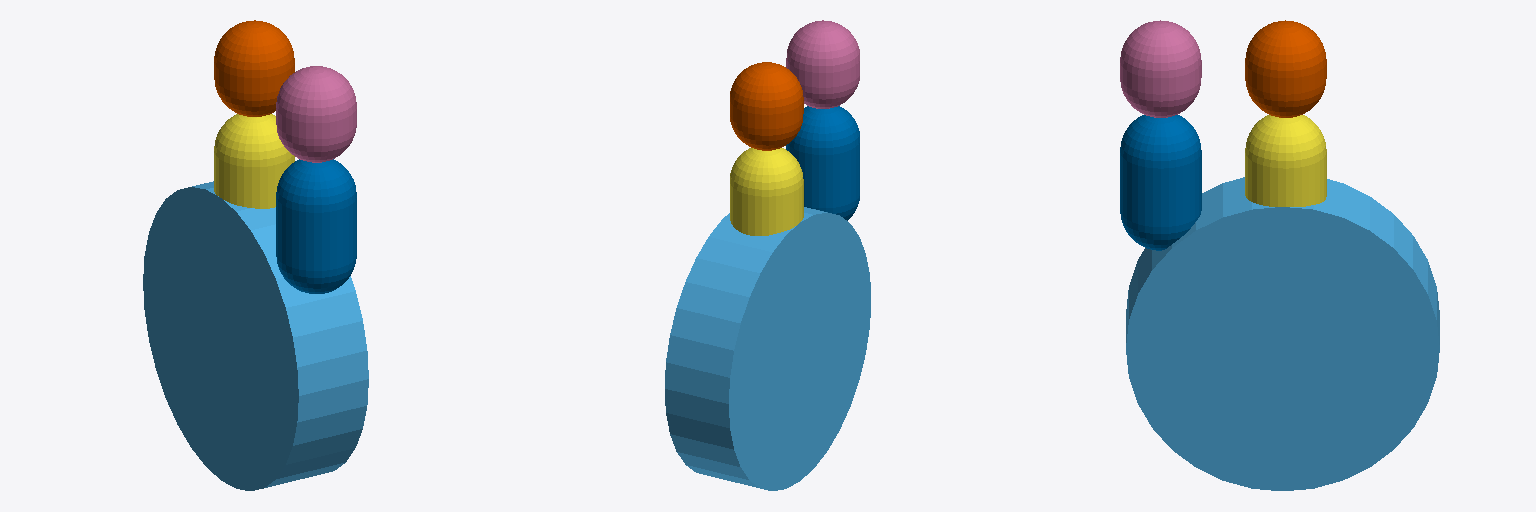
The robot description file, URDF, robot "DexterousHand":
<?xml version="1.0"?>
<robot name="DexterousHand">


    <link name="world"/>
    <joint name="world_to_palm" type="fixed">
        <parent link="world"/>
        <child link="palm"/>
        <origin xyz="0 0 0" rpy="0 0 0"/>
    </joint>
    <link name="palm">
        <inertial>
            <origin xyz="0 0 0.057" rpy="0 0 0"/>
            <mass value="0.30212892864"/>
            <inertia ixx="0.00049080844457568" ixy="0.0" ixz="0.0" iyy="0.00026746366246427523" iyz="0.0" izz="0.00026746366246427523"/>
        </inertial>
        <visual>
            <origin xyz="0 0 0.057" rpy="1.5708 0 1.5708"/>
            <geometry>
                <cylinder radius="0.057" length="0.0296"/>
            </geometry>
            <material name="default"/>
        </visual>
        <collision>
            <origin xyz="0 0 0.057" rpy="1.5708 0 1.5708"/>
            <geometry>
                <cylinder radius="0.057" length="0.0296"/>
            </geometry>
        </collision>
    </link>

    
    <joint name="thumb_joint1" type="revolute">
        <parent link="palm"/>
        <child link="thumb_base"/>
        <origin xyz="0.0 0.0 0.0" rpy="0.0 0.0 0.0"/>
        <axis xyz="1 0 0"/>
        <limit lower="0.0" upper="0.0" effort="1.0" velocity="1.0"/>
    </joint>

    <link name="thumb_base"></link>

    <joint name="thumb_joint2" type="revolute">
        <parent link="thumb_base"/>
        <child link="thumb_proximal"/>
        <origin xyz="0.0 0.0 0.0" rpy="0.0 0.0 0.0"/>
        <axis xyz="0 1 0"/>
        <limit lower="0.0" upper="0.0" effort="1.0" velocity="1.0"/>
    </joint>

    <link name="thumb_proximal">
    </link>

    <joint name="thumb_joint3" type="revolute">
        <parent link="thumb_proximal"/>
        <child link="thumb_knuckle"/>
        <origin xyz="0.0 0.0 0.0" rpy="0.0 0.0 0.0"/>
        <axis xyz="1 0 0"/>
        <limit lower="0.0" upper="0.0" effort="1.0" velocity="1.0"/>
    </joint>

    <link name="thumb_knuckle"></link>

    <joint name="thumb_joint4" type="revolute">
        <parent link="thumb_knuckle"/>
        <child link="thumb_middle"/>
        <origin xyz="0 0 0" rpy="0 0 0"/> 
        <axis xyz="0 1 0"/>
        <limit lower="0.0" upper="0.0" effort="1.0" velocity="1.0"/>
    </joint>

    <link name="thumb_middle">
    </link>

    <joint name="thumb_joint5" type="revolute">
        <parent link="thumb_middle"/>
        <child link="thumb_distal"/>
        <origin xyz="0 0 0" rpy="0 0 0"/> 
        <axis xyz="0 1 0"/>
        <limit lower="0.0" upper="0.0" effort="1.0" velocity="1.0"/>
    </joint>

    <link name="thumb_distal">
    </link>

    
    <joint name="index_joint1" type="revolute">
        <parent link="palm"/>
        <child link="index_proximal"/>
        <origin xyz="0.0 0.0 0.0" rpy="0.0 0.0 0.0"/>
        <axis xyz="1 0 0"/>
        <limit lower="0.0" upper="0.0" effort="1.0" velocity="1.0"/>
    </joint>

    <link name="index_proximal">
    </link>

    <joint name="index_joint2" type="revolute">
        <parent link="index_proximal"/>
        <child link="index_dummy"/>
        <origin xyz="0.0 0.0 0.0" rpy="0.0 0.0 0.0"/>
        <axis xyz="0 1 0"/>
        <limit lower="0.0" upper="0.0" effort="1.0" velocity="1.0"/>
    </joint>

    <link name="index_dummy"></link>

    <joint name="index_joint3" type="revolute">
        <parent link="index_dummy"/>
        <child link="index_middle"/>
        <origin xyz="0 0 0" rpy="0 0 0"/>
        <axis xyz="0 1 0"/>
        <limit lower="0.0" upper="0.0" effort="1.0" velocity="1.0"/>
    </joint>

    <link name="index_middle">
    </link>

    <joint name="index_joint4" type="revolute">
        <parent link="index_middle"/>
        <child link="index_distal"/>
        <origin xyz="0 0 0" rpy="0 0 0"/> 
        <axis xyz="0 1 0"/>
        <limit lower="0.0" upper="0.0" effort="1.0" velocity="1.0"/>
    </joint>

    <link name="index_distal">
    </link>

    
    <joint name="middle_joint1" type="revolute">
        <parent link="palm"/>
        <child link="middle_proximal"/>
        <origin xyz="0.0 0.0011 0.091" rpy="0.0 0.0 0.0"/>
        <axis xyz="0 1 0"/>
        <limit lower="-0.314" upper="2.23" effort="1.0" velocity="1.0"/>
    </joint>

    <link name="middle_proximal">
        <inertial>
            <origin xyz="0 0 0.02655" rpy="0 0 0"/>
            <mass value="0.036540024998400006"/>
            <inertia ixx="1.058665009272394e-05" ixy="0.0" ixz="0.0" 
            iyy="1.058665009272394e-05" iyz="0.0" izz="4.001863537824769e-06"/>
        </inertial>
        <visual>
            <origin xyz="0 0 0.02655" rpy="0 0 0"/>
            <geometry>
                <cylinder radius="0.0148" length="0.0235"/>
            </geometry>
            <material name="default"/>
        </visual>
        <visual>
            <origin xyz="0 0 0.0148" rpy="0 0 0"/>
            <geometry>
                <sphere radius="0.0148"/>
            </geometry>
            <material name="default"/>
        </visual>
        <visual>
            <origin xyz="0 0 0.0383" rpy="0 0 0"/>
            <geometry>
                <sphere radius="0.0148"/>
            </geometry>
            <material name="default"/>
        </visual>
        <collision>
            <origin xyz="0 0 0.02655" rpy="0 0 0"/>
            <geometry>
                <cylinder radius="0.0148" length="0.0235"/>
            </geometry>
        </collision>
        <collision>
            <origin xyz="0 0 0.0148" rpy="0 0 0"/>
            <geometry>
                <sphere radius="0.0148"/>
            </geometry>
        </collision>
        <collision>
            <origin xyz="0 0 0.0383" rpy="0 0 0"/>
            <geometry>
                <sphere radius="0.0148"/>
            </geometry>
        </collision>
    </link>

    <joint name="middle_joint2" type="revolute">
        <parent link="middle_proximal"/>
        <child link="middle_dummy"/>
        <origin xyz="0.0 0.0 0.038" rpy="0.0 0.0 0.0"/>
        <axis xyz="1 0 0"/>
        <limit lower="-1.047" upper="1.047" effort="1.0" velocity="1.0"/>
    </joint>

    <link name="middle_dummy"></link>

    <joint name="middle_joint3" type="revolute">
        <parent link="middle_dummy"/>
        <child link="middle_middle"/>
        <origin xyz="0 0 0.015100000000000002" rpy="0 0 0"/>
        <axis xyz="0 1 0"/>
        <limit lower="-0.506" upper="1.885" effort="1.0" velocity="1.0"/>
    </joint>

    <link name="middle_middle">
        <inertial>
            <origin xyz="0 0 0.01805" rpy="0 0 0"/>
            <mass value="0.0248417119104"/>
            <inertia ixx="4.058162759109537e-06" ixy="0.0" ixz="0.0" 
            iyy="4.058162759109537e-06" iyz="0.0" izz="2.7206642884270085e-06"/>
        </inertial>
        <visual>
            <origin xyz="0 0 0.01805" rpy="0 0 0"/>
            <geometry>
                <cylinder radius="0.0148" length="0.006499999999999999"/>
            </geometry>
            <material name="default"/>
        </visual>
        <visual>
            <origin xyz="0 0 0.0148" rpy="0 0 0"/>
            <geometry>
                <sphere radius="0.0148"/>
            </geometry>
            <material name="default"/>
        </visual>
        <visual>
            <origin xyz="0 0 0.0213" rpy="0 0 0"/>
            <geometry>
                <sphere radius="0.0148"/>
            </geometry>
            <material name="default"/>
        </visual>
        <collision>
            <origin xyz="0 0 0.01805" rpy="0 0 0"/>
            <geometry>
                <cylinder radius="0.0148" length="0.006499999999999999"/>
            </geometry>
        </collision>
        <collision>
            <origin xyz="0 0 0.0148" rpy="0 0 0"/>
            <geometry>
                <sphere radius="0.0148"/>
            </geometry>
        </collision>
        <collision>
            <origin xyz="0 0 0.0213" rpy="0 0 0"/>
            <geometry>
                <sphere radius="0.0148"/>
            </geometry>
        </collision>
    </link>

    <joint name="middle_joint4" type="revolute">
        <parent link="middle_middle"/>
        <child link="middle_distal"/>
        <origin xyz="0 0 0.0361" rpy="0 0 0"/> 
        <axis xyz="0 1 0"/>
        <limit lower="0.0" upper="0.0" effort="1.0" velocity="1.0"/>
    </joint>

    <link name="middle_distal">
    </link>

    
    <joint name="ring_joint1" type="revolute">
        <parent link="palm"/>
        <child link="ring_proximal"/>
        <origin xyz="0.0 0.0 0.0" rpy="0.0 0.0 0.0"/>
        <axis xyz="1 0 0"/>
        <limit lower="0.0" upper="0.0" effort="1.0" velocity="1.0"/>
    </joint>

    <link name="ring_proximal">
    </link>

    <joint name="ring_joint2" type="revolute">
        <parent link="ring_proximal"/>
        <child link="ring_dummy"/>
        <origin xyz="0.0 0.0 0.0" rpy="0.0 0.0 0.0"/>
        <axis xyz="0 1 0"/>
        <limit lower="0.0" upper="0.0" effort="1.0" velocity="1.0"/>
    </joint>

    <link name="ring_dummy"></link>

    <joint name="ring_joint3" type="revolute">
        <parent link="ring_dummy"/>
        <child link="ring_middle"/>
        <origin xyz="0 0 0" rpy="0 0 0"/>
        <axis xyz="0 1 0"/>
        <limit lower="0.0" upper="0.0" effort="1.0" velocity="1.0"/>
    </joint>

    <link name="ring_middle">
    </link>

    <joint name="ring_joint4" type="revolute">
        <parent link="ring_middle"/>
        <child link="ring_distal"/>
        <origin xyz="0 0 0" rpy="0 0 0"/> 
        <axis xyz="0 1 0"/>
        <limit lower="0.0" upper="0.0" effort="1.0" velocity="1.0"/>
    </joint>

    <link name="ring_distal">
    </link>

    
    <joint name="little_joint0" type="revolute">
        <parent link="palm"/>
        <child link="little_base"/>
        <origin xyz="0.0 0.0 0.0" rpy="0.0 0.0 0.0"/>
        <axis xyz="0 1 0"/>
        <limit lower="0.0" upper="0.0" effort="1.0" velocity="1.0"/>
    </joint>

    <link name="little_base"></link>

    <joint name="little_joint1" type="revolute">
        <parent link="little_base"/>
        <child link="little_proximal"/>
        <origin xyz="0.0 -0.0443 0.091" rpy="-0.0 -0.0 -0.0"/>
        <axis xyz="0 1 0"/>
        <limit lower="-0.314" upper="2.23" effort="1.0" velocity="1.0"/>
    </joint>

    <link name="little_proximal">
        <inertial>
            <origin xyz="0 0 0.02655" rpy="0 0 0"/>
            <mass value="0.036540024998400006"/>
            <inertia ixx="1.058665009272394e-05" ixy="0.0" ixz="0.0" 
            iyy="1.058665009272394e-05" iyz="0.0" izz="4.001863537824769e-06"/>
        </inertial>
        <visual>
            <origin xyz="0 0 0.02655" rpy="0 0 0"/>
            <geometry>
                <cylinder radius="0.0148" length="0.0235"/>
            </geometry>
            <material name="default"/>
        </visual>
        <visual>
            <origin xyz="0 0 0.0148" rpy="0 0 0"/>
            <geometry>
                <sphere radius="0.0148"/>
            </geometry>
            <material name="default"/>
        </visual>
        <visual>
            <origin xyz="0 0 0.0383" rpy="0 0 0"/>
            <geometry>
                <sphere radius="0.0148"/>
            </geometry>
            <material name="default"/>
        </visual>
        <collision>
            <origin xyz="0 0 0.02655" rpy="0 0 0"/>
            <geometry>
                <cylinder radius="0.0148" length="0.0235"/>
            </geometry>
        </collision>
        <collision>
            <origin xyz="0 0 0.0148" rpy="0 0 0"/>
            <geometry>
                <sphere radius="0.0148"/>
            </geometry>
        </collision>
        <collision>
            <origin xyz="0 0 0.0383" rpy="0 0 0"/>
            <geometry>
                <sphere radius="0.0148"/>
            </geometry>
        </collision>
    </link>

    <joint name="little_joint2" type="revolute">
        <parent link="little_proximal"/>
        <child link="little_dummy"/>
        <origin xyz="0.0 0.0 0.038" rpy="0.0 0.0 0.0"/>
        <axis xyz="1 0 0"/>
        <limit lower="-1.047" upper="1.047" effort="1.0" velocity="1.0"/>
    </joint>

    <link name="little_dummy"></link>

    <joint name="little_joint3" type="revolute">
        <parent link="little_dummy"/>
        <child link="little_middle"/>
        <origin xyz="0 0 0.015100000000000002" rpy="0 0 0"/>
        <axis xyz="0 1 0"/>
        <limit lower="-0.506" upper="1.885" effort="1.0" velocity="1.0"/>
    </joint>

    <link name="little_middle">
        <inertial>
            <origin xyz="0 0 0.01805" rpy="0 0 0"/>
            <mass value="0.0248417119104"/>
            <inertia ixx="4.058162759109537e-06" ixy="0.0" ixz="0.0" 
            iyy="4.058162759109537e-06" iyz="0.0" izz="2.7206642884270085e-06"/>
        </inertial>
        <visual>
            <origin xyz="0 0 0.01805" rpy="0 0 0"/>
            <geometry>
                <cylinder radius="0.0148" length="0.006499999999999999"/>
            </geometry>
            <material name="default"/>
        </visual>
        <visual>
            <origin xyz="0 0 0.0148" rpy="0 0 0"/>
            <geometry>
                <sphere radius="0.0148"/>
            </geometry>
            <material name="default"/>
        </visual>
        <visual>
            <origin xyz="0 0 0.0213" rpy="0 0 0"/>
            <geometry>
                <sphere radius="0.0148"/>
            </geometry>
            <material name="default"/>
        </visual>
        <collision>
            <origin xyz="0 0 0.01805" rpy="0 0 0"/>
            <geometry>
                <cylinder radius="0.0148" length="0.006499999999999999"/>
            </geometry>
        </collision>
        <collision>
            <origin xyz="0 0 0.0148" rpy="0 0 0"/>
            <geometry>
                <sphere radius="0.0148"/>
            </geometry>
        </collision>
        <collision>
            <origin xyz="0 0 0.0213" rpy="0 0 0"/>
            <geometry>
                <sphere radius="0.0148"/>
            </geometry>
        </collision>
    </link>

    <joint name="little_joint4" type="revolute">
        <parent link="little_middle"/>
        <child link="little_distal"/>
        <origin xyz="0 0 0.0361" rpy="0 0 0"/>
        <axis xyz="0 1 0"/>
        <limit lower="0.0" upper="0.0" effort="1.0" velocity="1.0"/>
    </joint>

    <link name="little_distal">
    </link>

</robot>

--- Render facts (derived) ---
The picture shows the robot from 3 angles, left to right: view 1: azimuth 30°, elevation 25°; view 2: azimuth 150°, elevation 25°; view 3: azimuth 270°, elevation 25°; orthographic projection.
Model DexterousHand with 24 links and 23 joints (22 revolute, 1 fixed), rooted at world, posed all joints at 0.
Visible links, largest first — view 1: palm, little_proximal, little_middle, middle_middle, middle_proximal; view 2: palm, little_proximal, middle_proximal, middle_middle, little_middle; view 3: palm, little_proximal, middle_proximal, little_middle, middle_middle.
Link boxes in pixels (left/top/right/bottom): palm: left=143, top=181, right=368, bottom=490; little_proximal: left=276, top=159, right=356, bottom=293; little_middle: left=276, top=66, right=356, bottom=162; middle_middle: left=214, top=20, right=294, bottom=116; middle_proximal: left=214, top=114, right=294, bottom=208; palm: left=665, top=207, right=870, bottom=490; little_proximal: left=786, top=106, right=859, bottom=220; middle_proximal: left=730, top=148, right=803, bottom=235; middle_middle: left=730, top=62, right=803, bottom=150; little_middle: left=786, top=20, right=859, bottom=108; palm: left=1126, top=177, right=1439, bottom=490; little_proximal: left=1120, top=115, right=1201, bottom=250; middle_proximal: left=1245, top=115, right=1326, bottom=206; little_middle: left=1120, top=20, right=1201, bottom=117; middle_middle: left=1245, top=20, right=1326, bottom=117.
Bounding box of the posed robot: 0.0296 × 0.1161 × 0.1802 m (x, y, z).
Geometry: primitives only (box / cylinder / sphere), no mesh files.
